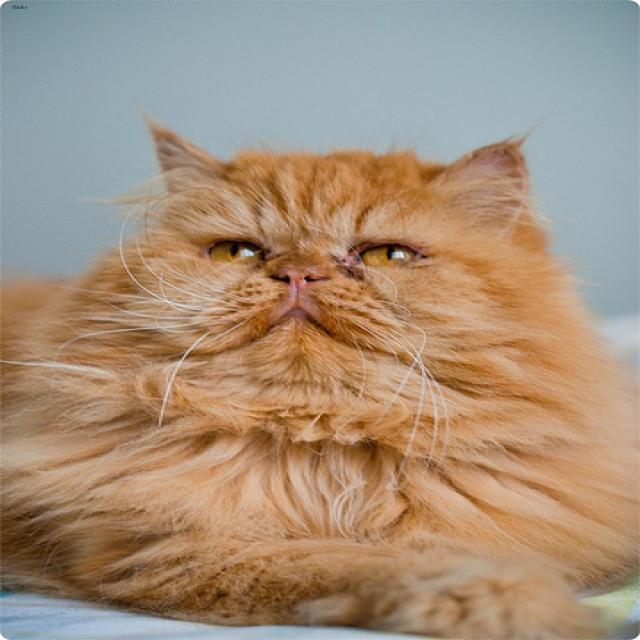Persian: (149, 125, 526, 383)
